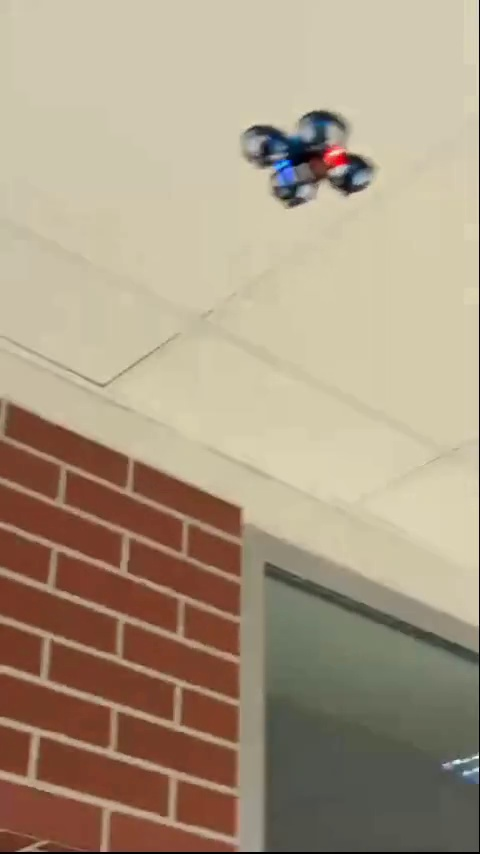drone: (237, 106, 373, 214)
